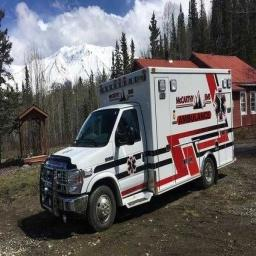Ambulance: (40, 67, 234, 230)
